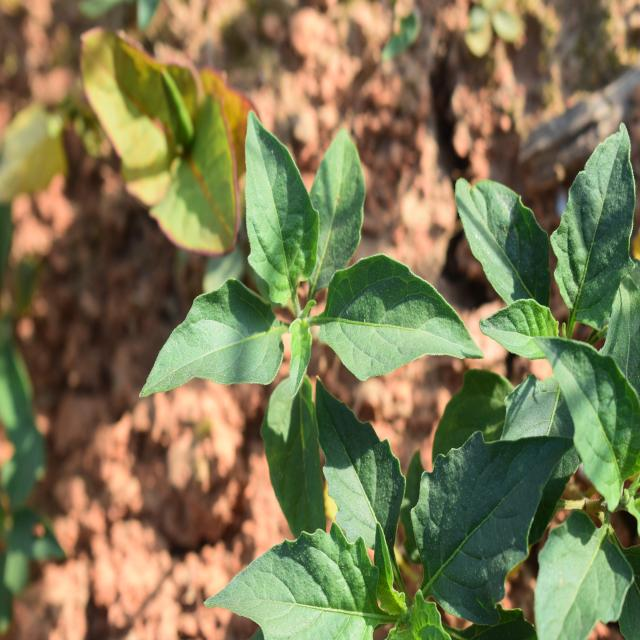Black_nightshade: (187, 126, 455, 491), (222, 399, 580, 627), (484, 155, 636, 477)
